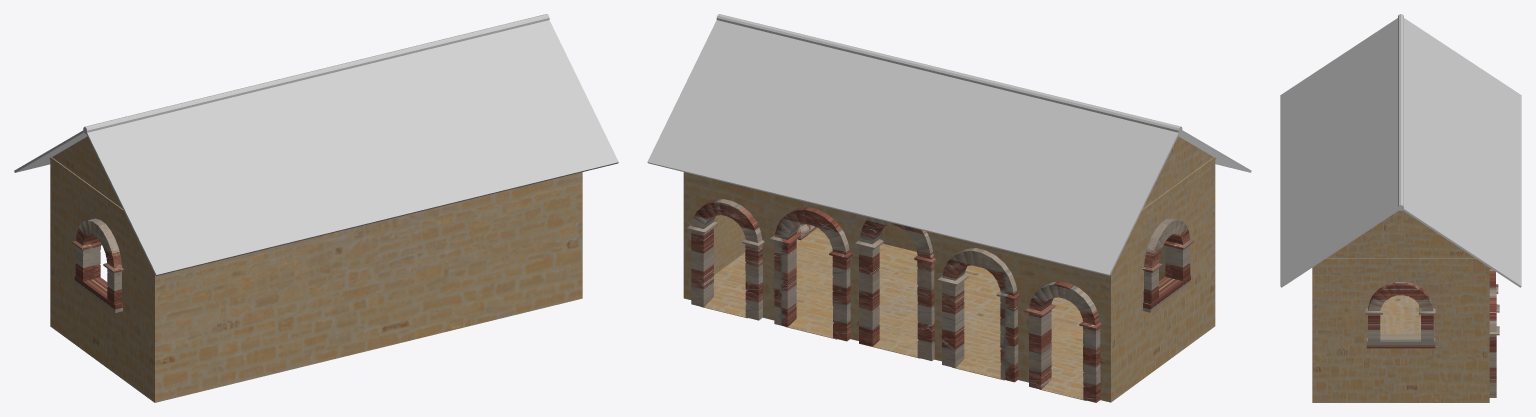
The model's file is SpawnRoom.fbx.
3 renders of one model, left to right at view 1: azimuth 30°, elevation 25°; view 2: azimuth 150°, elevation 25°; view 3: azimuth 270°, elevation 25°, orthographic. The views are drawn at different scales.
Visible parts, largest first — view 1: Roof, Room2, pCube20, pCube24; view 2: Roof, Room2, pCube2, pCube5, pCube4, pCube3, pCube6, pCube20, pCube24; view 3: Roof, Room2, pCube17, pCube3, pCube21.
Part boxes in pixels (<box>): Roof: <box>14,14,618,275</box>; Room2: <box>49,136,582,402</box>; pCube20: <box>72,218,123,304</box>; pCube24: <box>74,275,122,312</box>; Roof: <box>647,14,1251,275</box>; Room2: <box>683,136,1216,402</box>; pCube2: <box>770,207,852,341</box>; pCube5: <box>937,248,1019,382</box>; pCube4: <box>855,217,936,360</box>; pCube3: <box>687,199,764,320</box>; pCube6: <box>1024,281,1101,402</box>; pCube20: <box>1142,218,1194,304</box>; pCube24: <box>1143,275,1190,312</box>; Roof: <box>1280,14,1521,287</box>; Room2: <box>1312,210,1489,402</box>; pCube17: <box>1365,281,1435,341</box>; pCube3: <box>1489,288,1499,397</box>; pCube21: <box>1366,338,1435,348</box>.
Bounding box in the file's own units: 18.46 × 9.25 × 9.85.
